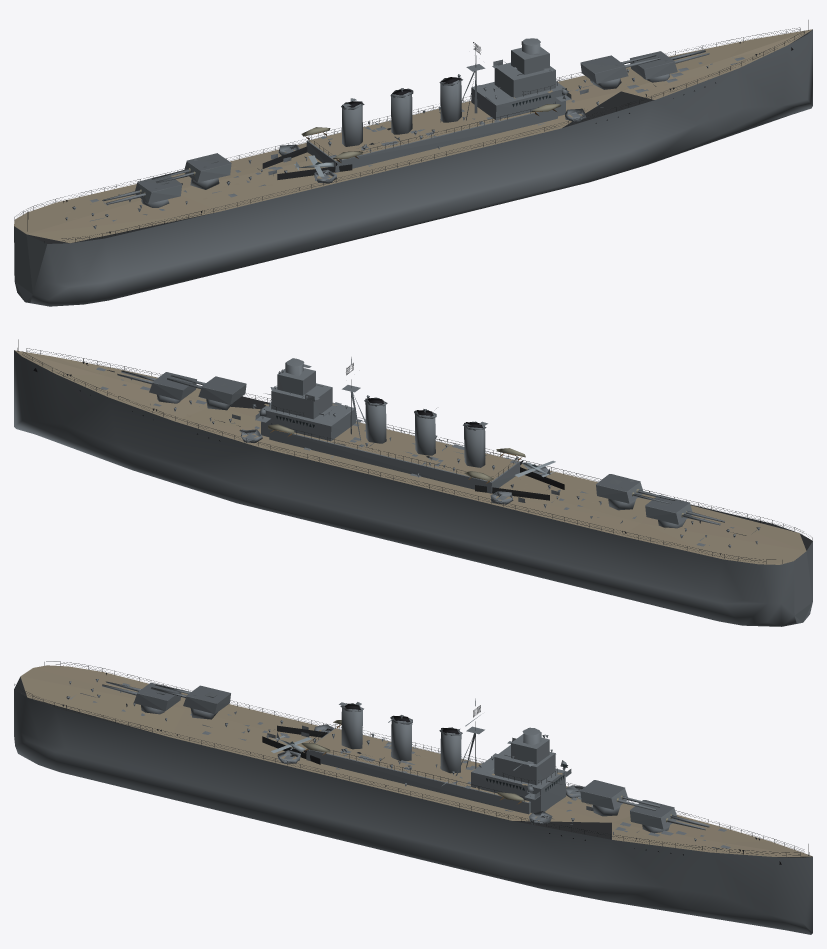
File: kent_lod.glb
3 views of the same model, one above another, from view 1: azimuth 30°, elevation 25°; view 2: azimuth 150°, elevation 25°; view 3: azimuth 330°, elevation 25° (orthographic).
Visible parts, largest first — view 1: kent_lod; view 2: kent_lod; view 3: kent_lod.
Boxes of the visible parts, x1=… form: kent_lod: x1=14, y1=20, x2=812, y2=306; kent_lod: x1=14, y1=339, x2=812, y2=626; kent_lod: x1=14, y1=661, x2=812, y2=934.
Bounding box in the file's own units: 192 × 37.47 × 21.59.
